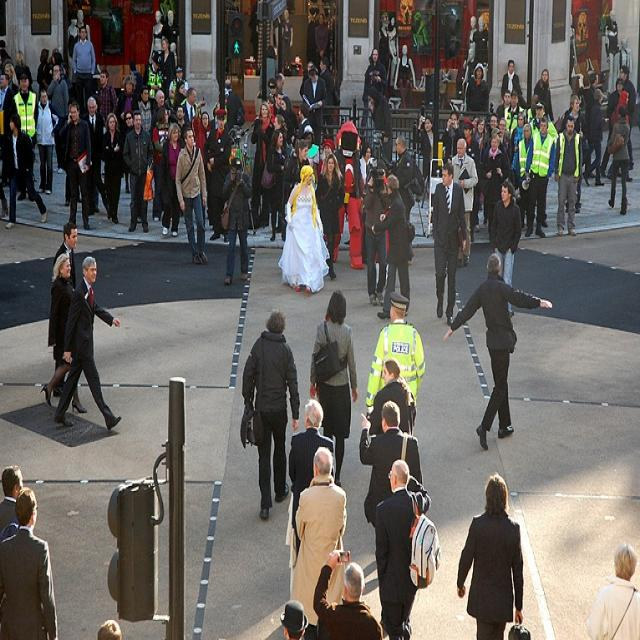body: (45, 1, 639, 105), (438, 252, 555, 454), (357, 399, 424, 640), (237, 304, 302, 525), (454, 468, 534, 639), (51, 253, 124, 435), (287, 444, 349, 638), (373, 457, 433, 640), (308, 290, 358, 488), (0, 484, 59, 640), (37, 250, 90, 416), (286, 397, 338, 561), (364, 290, 427, 414), (276, 162, 331, 296), (311, 546, 384, 640), (428, 161, 469, 327), (372, 173, 417, 322), (324, 119, 369, 267), (1, 110, 48, 230), (583, 541, 639, 639), (173, 124, 210, 264), (201, 105, 236, 244), (488, 178, 522, 319), (57, 100, 93, 233), (360, 156, 391, 310), (312, 150, 346, 284), (122, 109, 155, 235), (220, 156, 251, 290), (368, 357, 418, 437), (387, 134, 416, 268), (451, 136, 480, 270), (552, 114, 583, 238), (524, 117, 555, 240), (11, 73, 39, 203), (558, 93, 586, 215), (250, 99, 276, 230), (481, 134, 510, 248), (114, 73, 140, 198), (596, 75, 626, 182), (97, 110, 124, 226), (80, 95, 106, 214), (604, 104, 631, 217), (33, 88, 61, 196), (58, 97, 84, 209), (266, 126, 290, 243), (46, 62, 70, 176), (358, 46, 388, 136), (606, 89, 634, 184), (582, 86, 608, 186), (159, 121, 181, 238), (459, 122, 480, 244), (301, 66, 328, 159), (70, 24, 96, 116), (150, 107, 170, 224), (318, 54, 342, 148), (618, 62, 638, 172), (366, 85, 393, 163), (51, 220, 79, 292), (414, 113, 440, 189), (515, 123, 533, 230), (511, 110, 526, 229), (0, 463, 24, 535), (286, 136, 312, 202), (471, 114, 488, 213), (439, 109, 468, 165), (157, 36, 177, 112), (299, 123, 321, 190), (0, 70, 14, 175), (533, 66, 557, 126), (465, 60, 491, 115), (222, 78, 246, 135), (96, 67, 119, 126), (141, 50, 164, 109), (499, 89, 526, 139), (279, 598, 310, 640), (269, 88, 291, 146), (190, 99, 207, 164), (280, 94, 300, 149), (483, 126, 510, 166), (500, 59, 524, 104), (317, 136, 340, 182), (167, 64, 190, 109), (313, 12, 330, 72), (13, 49, 35, 94), (298, 60, 320, 102), (469, 117, 488, 164), (180, 85, 200, 129), (136, 85, 153, 135), (174, 104, 190, 150), (295, 102, 314, 140), (92, 614, 122, 638), (35, 46, 50, 93), (358, 142, 373, 186), (3, 61, 20, 98), (496, 116, 513, 152), (495, 88, 512, 124), (150, 88, 169, 120), (128, 58, 144, 95), (123, 109, 135, 157), (274, 115, 288, 154), (524, 93, 540, 124), (172, 80, 187, 113), (0, 174, 8, 234), (0, 35, 11, 73), (267, 76, 278, 103), (222, 92, 230, 126), (275, 71, 286, 93), (488, 112, 500, 132), (582, 72, 592, 95)
